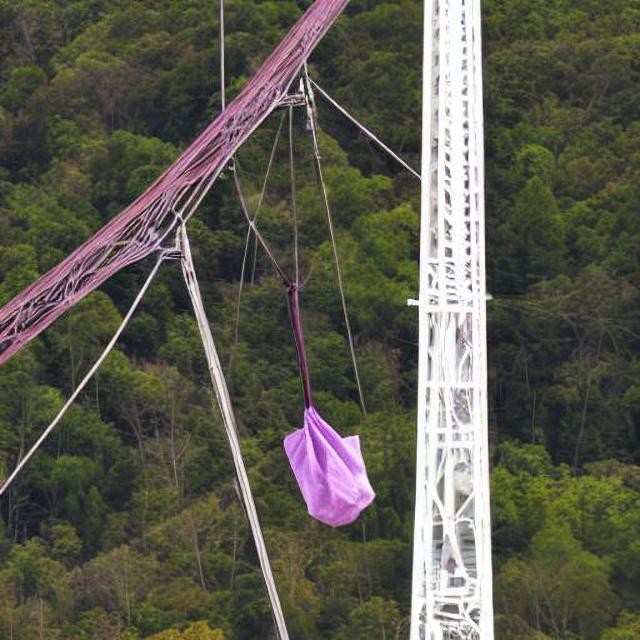floating object: (12, 6, 350, 352)
plastic bag: (277, 384, 373, 524)
